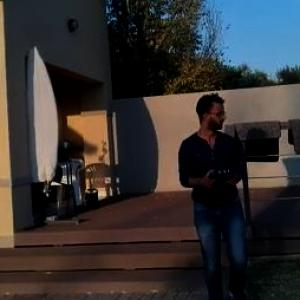follow: (175, 87, 254, 299)
